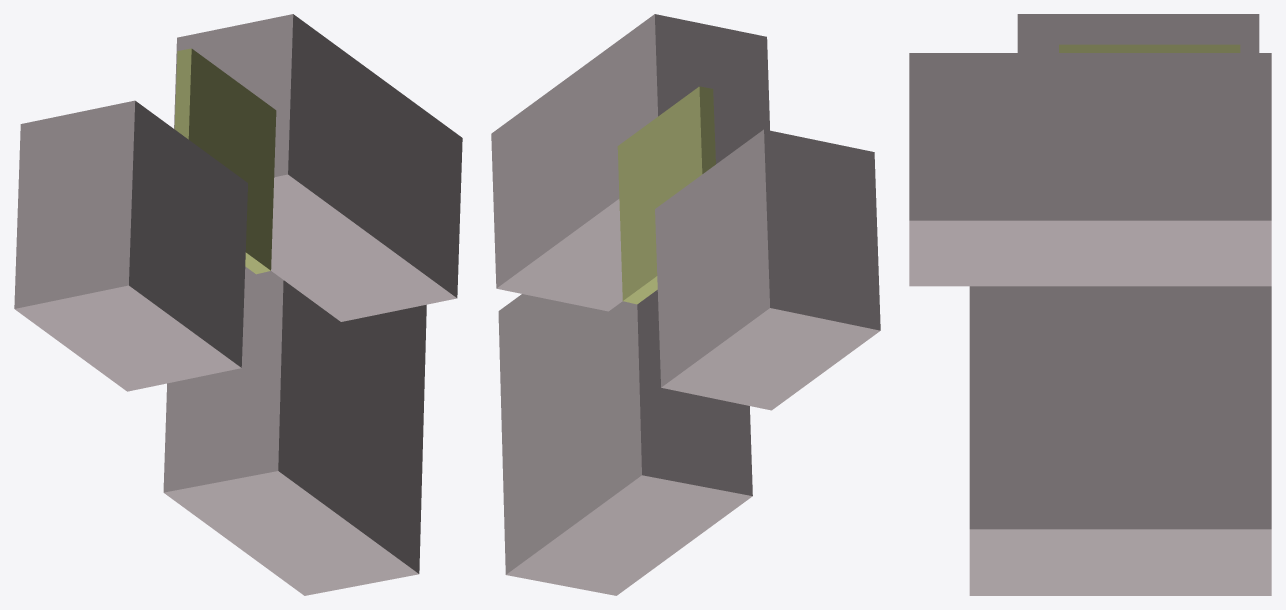
The picture shows the model from 3 angles, left to right: view 1: azimuth 30°, elevation 25°; view 2: azimuth 150°, elevation 25°; view 3: azimuth 270°, elevation 25°; orthographic projection. The views are drawn at different scales.
Parts seen in each view (by area): view 1: 0_2_1_3_0_0_2_0_0_0; view 2: 0_2_1_3_0_0_2_0_0_0; view 3: 0_2_1_3_0_0_2_0_0_0.
Part boxes in pixels (x1=…): 0_2_1_3_0_0_2_0_0_0: x1=14, y1=14, x2=462, y2=595; 0_2_1_3_0_0_2_0_0_0: x1=491, y1=14, x2=880, y2=595; 0_2_1_3_0_0_2_0_0_0: x1=909, y1=14, x2=1271, y2=595.
Size of the model in its own units: 17.47 by 26.91 by 18.
